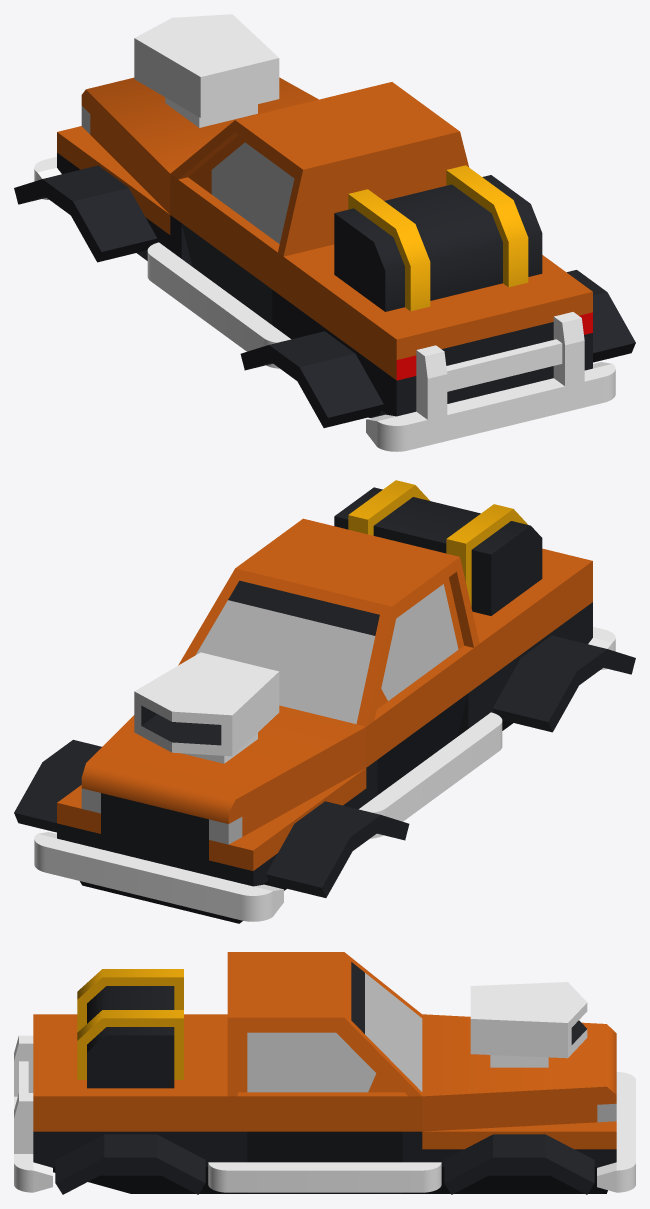
Rendered from OrangeJeep_noWheel.glb.
3 views of the same model, one above another, from view 1: azimuth 30°, elevation 25°; view 2: azimuth 150°, elevation 25°; view 3: azimuth 270°, elevation 25° (orthographic). The views are drawn at different scales.
Parts seen in each view (by area): view 1: body_topStandard, body_backSolid, detail_luggage, wheel_coverSquare (×3), bumper_large, body_frontTruck, detail_engine, body_edge, bumper; view 2: body_topStandard, body_frontTruck, wheel_coverSquare (×3), bumper (×2), detail_luggage, detail_engine, body_edge, body_backSolid; view 3: body_topStandard, body_frontTruck, body_backSolid, body_edge, detail_luggage, wheel_coverSquare (×2), bumper (×2), detail_engine, bumper_large.
Part boxes in pixels (left/top/right/bottom): body_topStandard: left=170, top=82, right=468, bottom=256; body_backSolid: left=283, top=244, right=592, bottom=417; detail_luggage: left=334, top=165, right=542, bottom=311; wheel_coverSquare (×3): left=14, top=165, right=635, bottom=427; bumper_large: left=366, top=312, right=615, bottom=451; body_frontTruck: left=57, top=77, right=318, bottom=260; detail_engine: left=134, top=14, right=279, bottom=127; body_edge: left=170, top=174, right=283, bottom=333; bumper: left=147, top=242, right=290, bottom=368; body_topStandard: left=178, top=518, right=479, bottom=726; body_frontTruck: left=57, top=705, right=366, bottom=923; wheel_coverSquare (×3): left=14, top=635, right=635, bottom=897; bumper (×2): left=34, top=712, right=502, bottom=921; detail_luggage: left=334, top=480, right=542, bottom=615; detail_engine: left=134, top=652, right=279, bottom=763; body_edge: left=366, top=644, right=479, bottom=803; body_backSolid: left=472, top=548, right=592, bottom=730; body_topStandard: left=227, top=952, right=422, bottom=1096; body_frontTruck: left=422, top=1014, right=616, bottom=1193; body_backSolid: left=33, top=1014, right=227, bottom=1193; body_edge: left=227, top=1092, right=422, bottom=1193; detail_luggage: left=77, top=969, right=183, bottom=1088; wheel_coverSquare (×2): left=55, top=1134, right=594, bottom=1194; bumper (×2): left=208, top=1072, right=635, bottom=1192; detail_engine: left=470, top=982, right=587, bottom=1067; bumper_large: left=14, top=1035, right=52, bottom=1192.
Size of the model in its own units: 1.57 by 1 by 3.2.
